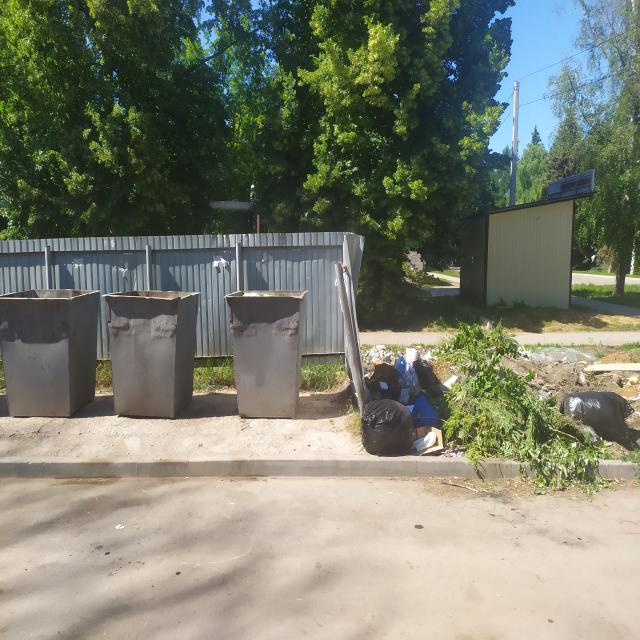bin: (103, 287, 203, 419), (0, 285, 98, 418), (224, 282, 310, 423)
trash: (354, 330, 457, 465), (553, 377, 640, 452)
